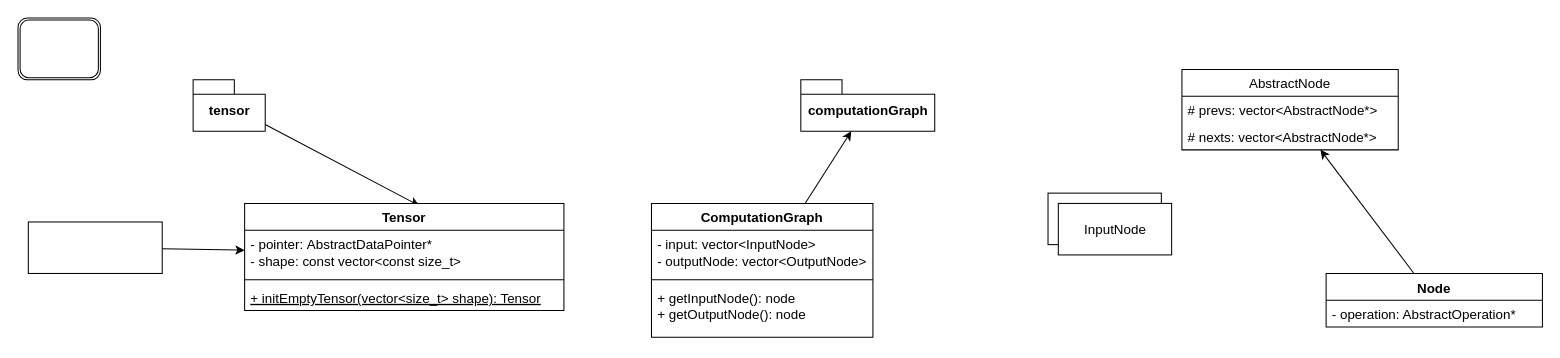
Some shapes in this 1560 by 358 pixel diagram are drawn without their labels. Each missing label, with the centre of its shape:
AbstractDataPointer: [94,247]
src: [58,48]
